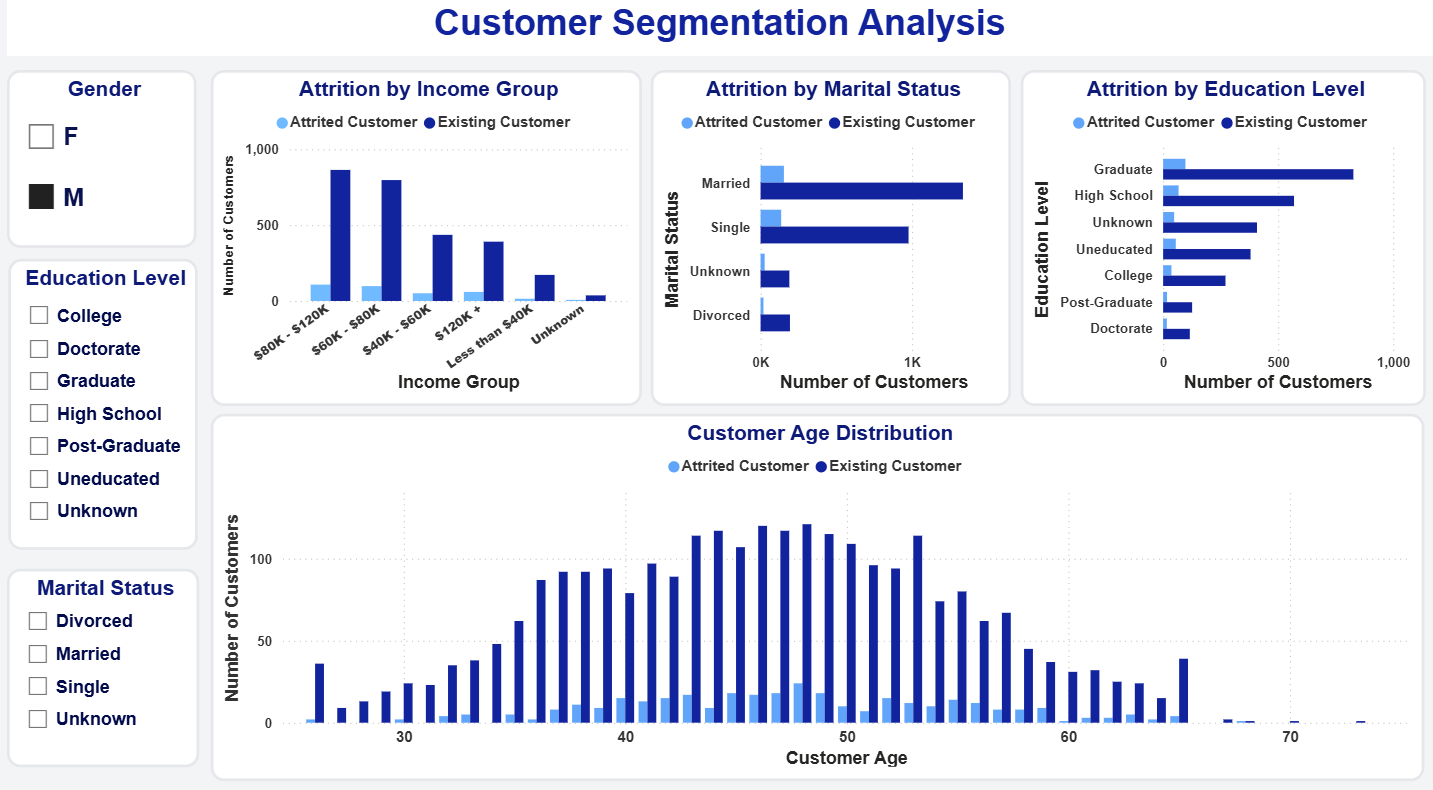

Layout of this report page (visuals, bound fields, positions):
{"tool":"powerbi","page":{"name":"Customer Segmentation Analysis","canvas":[1280,720],"ordinal":1},"visuals":[{"type":"slicer","title":"Gender","fields":{"Values":["cleaned_credit_card_customers.Gender"]},"box":[9.3,75.6,168.6,158.1],"z":0},{"type":"slicer","title":"Education Level","fields":{"Values":["cleaned_credit_card_customers.Education_Level"]},"box":[10.5,244.2,168.6,259.3],"z":1000},{"type":"slicer","title":"Marital Status","fields":{"Values":["cleaned_credit_card_customers.Marital_Status"]},"box":[9.3,519.8,170.9,176.7],"z":2000},{"type":"clusteredColumnChart","title":"Customer Age Distribution","fields":{"Category":["cleaned_credit_card_customers.Customer_Age"],"Y":["CountNonNull(cleaned_credit_card_customers.CLIENTNUM)"],"Series":["cleaned_credit_card_customers.Attrition_Flag"]},"box":[190.4,381.8,1080.9,327.3],"z":3000},{"type":"clusteredBarChart","title":"Attrition by Education Level","fields":{"Category":["cleaned_credit_card_customers.Education_Level"],"Y":["CountNonNull(cleaned_credit_card_customers.CLIENTNUM)"],"Series":["cleaned_credit_card_customers.Attrition_Flag"]},"box":[911.6,75.6,360.5,298.8],"z":4000},{"type":"clusteredBarChart","title":"Attrition by Marital Status","fields":{"Category":["cleaned_credit_card_customers.Marital_Status"],"Y":["CountNonNull(cleaned_credit_card_customers.CLIENTNUM)"],"Series":["cleaned_credit_card_customers.Attrition_Flag"]},"box":[582.6,75.6,320.9,298.8],"z":5000},{"type":"clusteredColumnChart","title":"Attrition by Income Group","fields":{"Category":["cleaned_credit_card_customers.Income_Category"],"Y":["CountNonNull(cleaned_credit_card_customers.CLIENTNUM)"],"Series":["cleaned_credit_card_customers.Attrition_Flag"]},"box":[190.7,75.6,383.7,298.8],"z":6000},{"type":"textbox","box":[9.3,11.6,1269.8,52.3],"z":7000}]}

Visuals, with their boxes in screenshot pixels (x1, y1, x2, y2), scaled from the page's 1280x720 canvas onto the 1433x790 screenshot:
"Gender" slicer: 10, 83, 199, 256
"Education Level" slicer: 12, 268, 201, 552
"Marital Status" slicer: 10, 570, 202, 764
"Customer Age Distribution" clusteredColumnChart: 213, 419, 1423, 778
"Attrition by Education Level" clusteredBarChart: 1021, 83, 1424, 411
"Attrition by Marital Status" clusteredBarChart: 652, 83, 1011, 411
"Attrition by Income Group" clusteredColumnChart: 213, 83, 643, 411
textbox: 10, 13, 1432, 70
